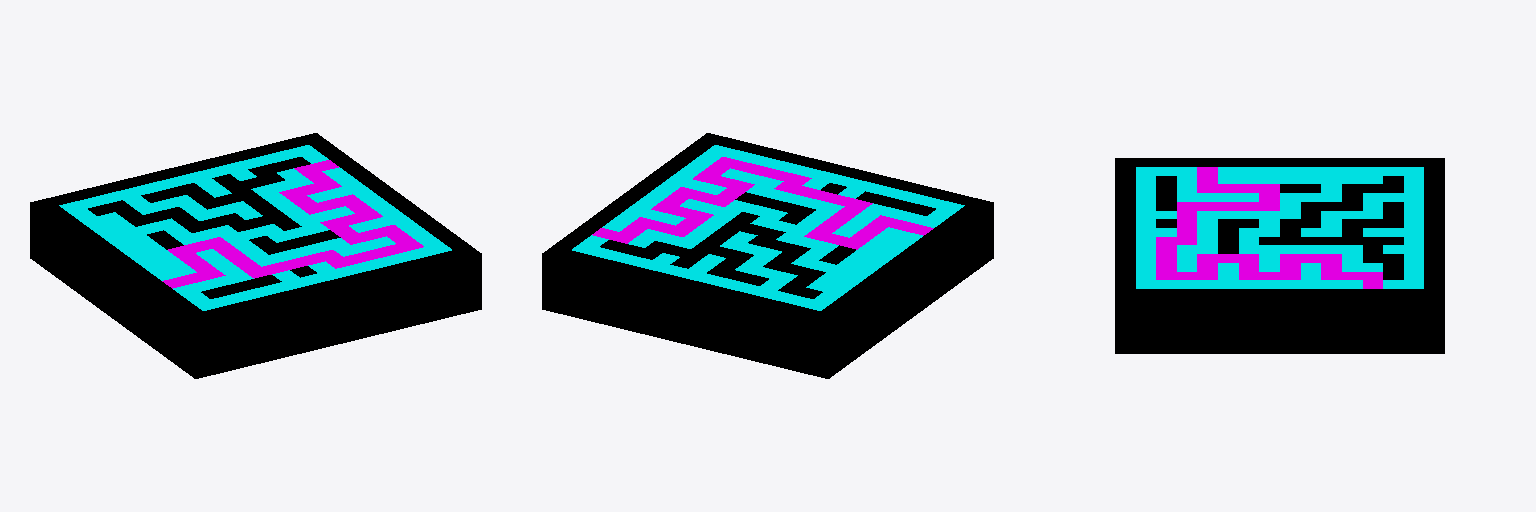
3 views of the same model, side by side, from view 1: azimuth 30°, elevation 25°; view 2: azimuth 150°, elevation 25°; view 3: azimuth 270°, elevation 25° (orthographic).
Visible parts, largest first — view 1: back3; view 2: back3; view 3: back3.
Boxes of the visible parts, box(x1,y1,x2,y2) form: back3: box(30, 133, 481, 378); back3: box(542, 133, 993, 378); back3: box(1115, 158, 1444, 353).
Bounding box in the file's own units: 16 × 3 × 16.
1 materials, 1 textured.